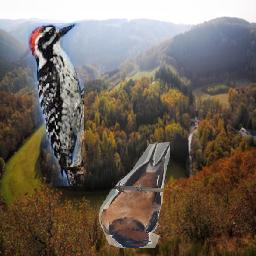Swallow: (100, 142, 171, 248)
Woodpecker: (28, 24, 84, 187)
